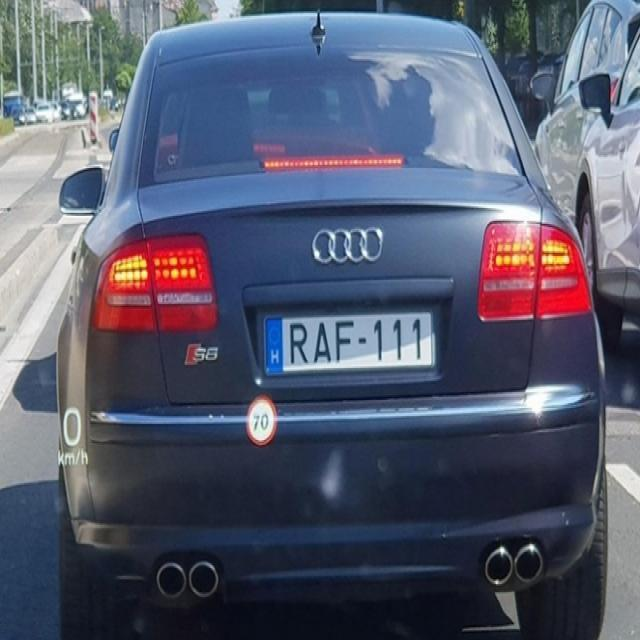licence: (263, 314, 436, 373)
